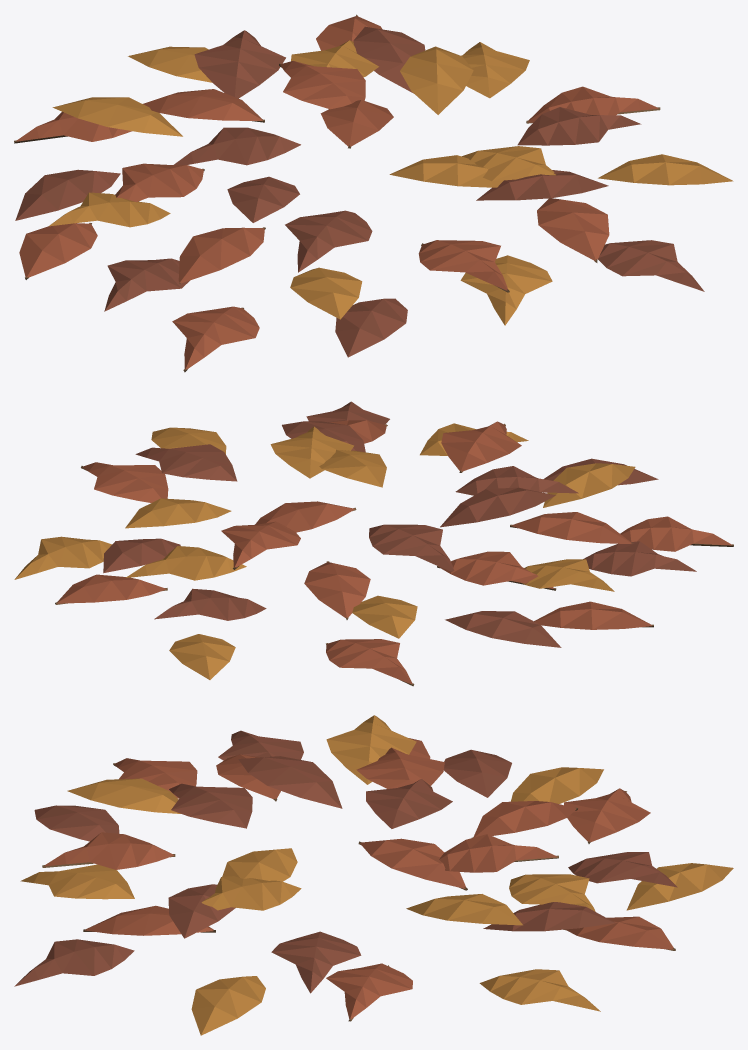
File: leaf_pile_b.glb
3 views of the same model, one above another, from view 1: azimuth 30°, elevation 25°; view 2: azimuth 150°, elevation 25°; view 3: azimuth 270°, elevation 25° (orthographic). The views are drawn at different scales.
Parts seen in each view (by area): view 1: decoration; view 2: decoration; view 3: decoration.
Part boxes in pixels (bbox=[...]): decoration: bbox=[14, 14, 733, 372]; decoration: bbox=[14, 401, 733, 686]; decoration: bbox=[14, 715, 733, 1035].
Size of the model in its own units: 0.7685 by 0.095 by 0.7728.
